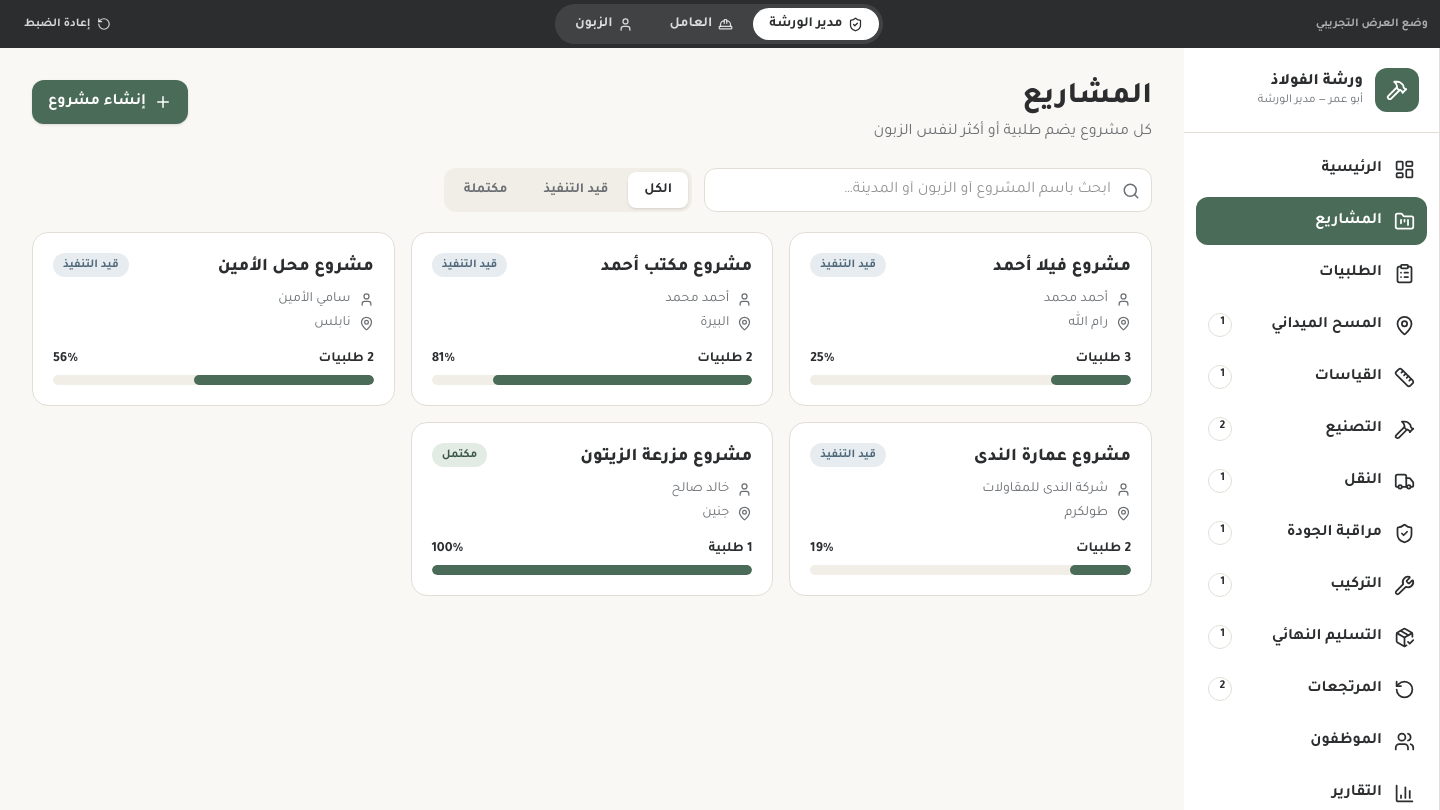
Test: flows › admin create project + order
Click the button "إنشاء مشروع": {"x": 110, "y": 102} [32,80,188,124]
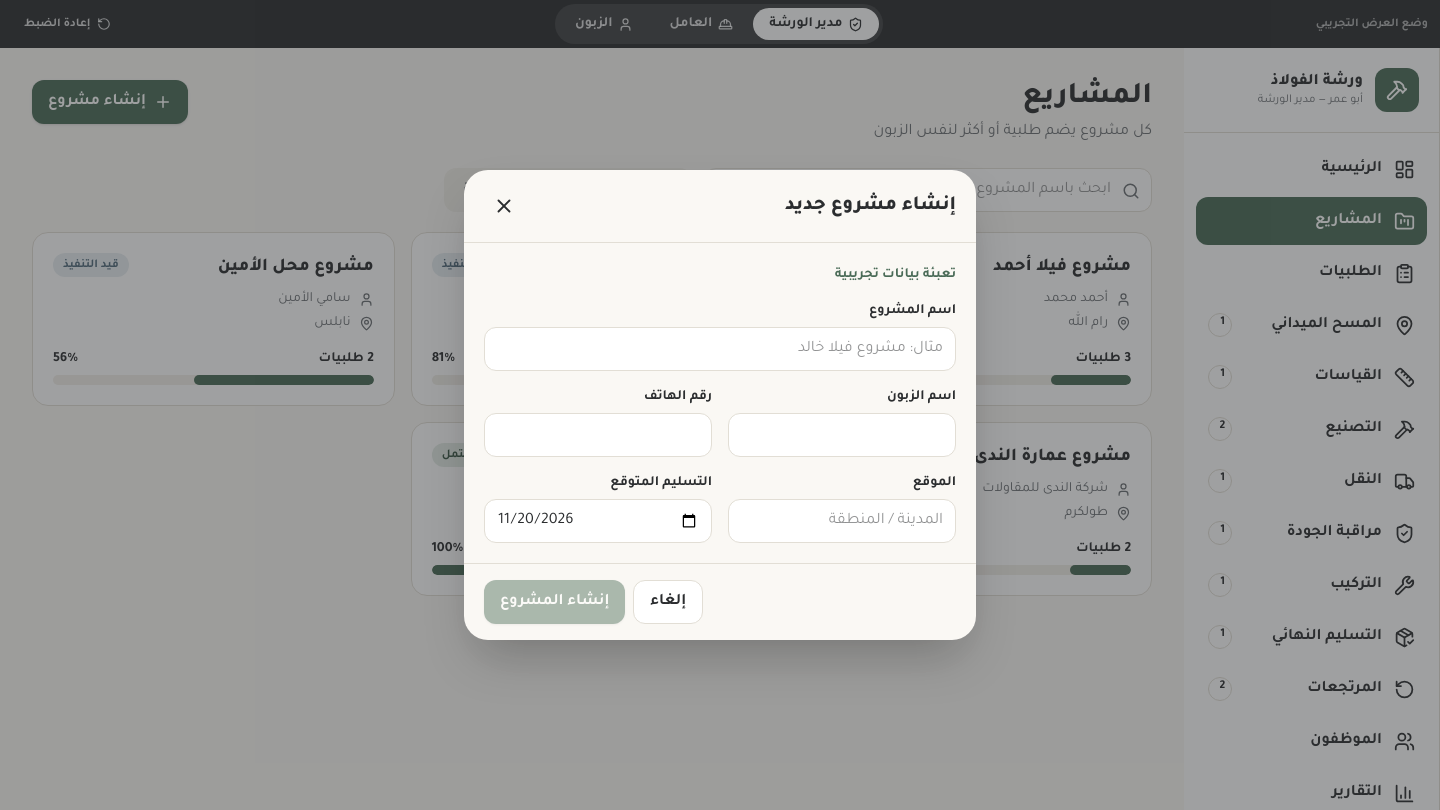
Click the button "تعبئة بيانات تجريبية": {"x": 895, "y": 275} [835,265,956,285]
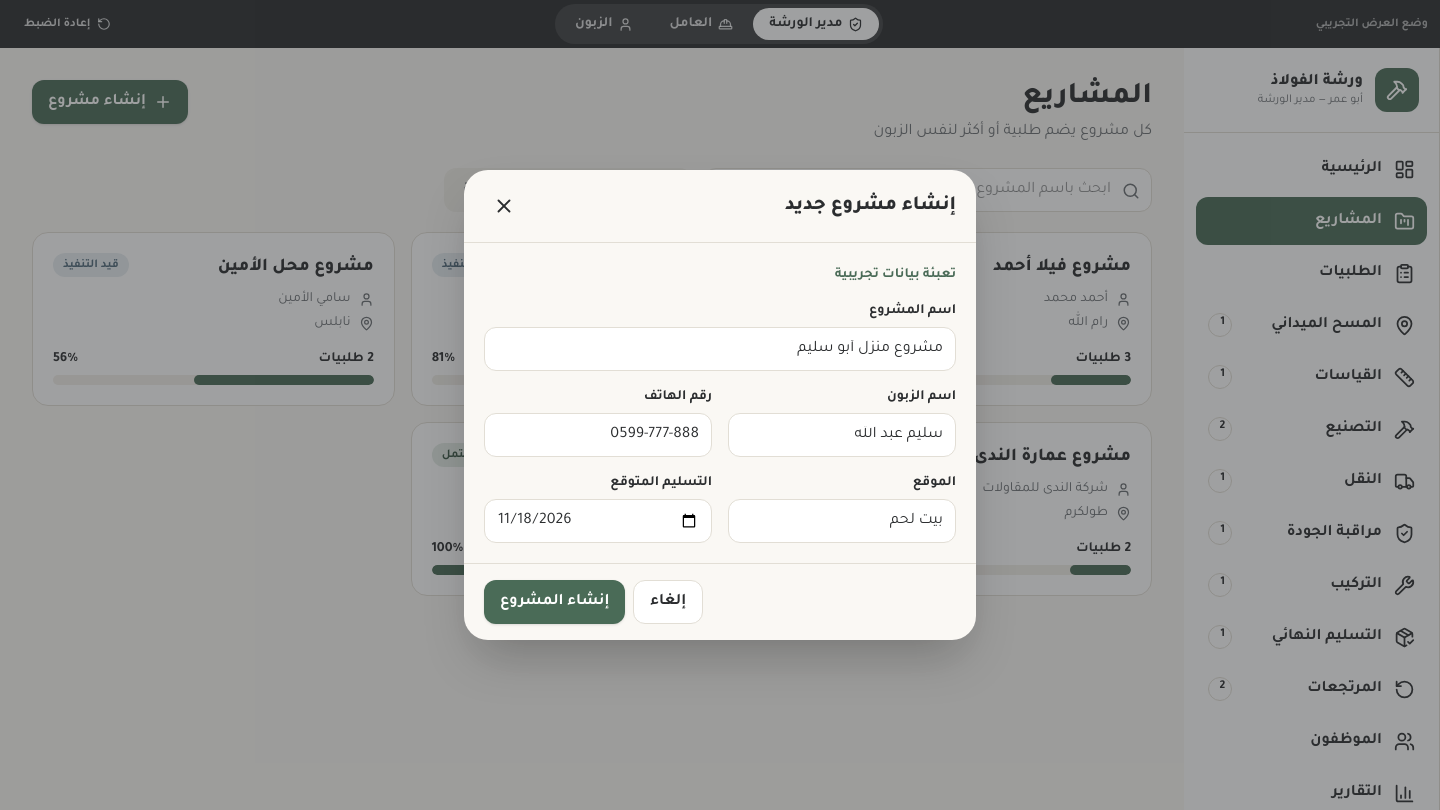
Click the button "إنشاء المشروع": {"x": 555, "y": 602} [484,580,625,624]
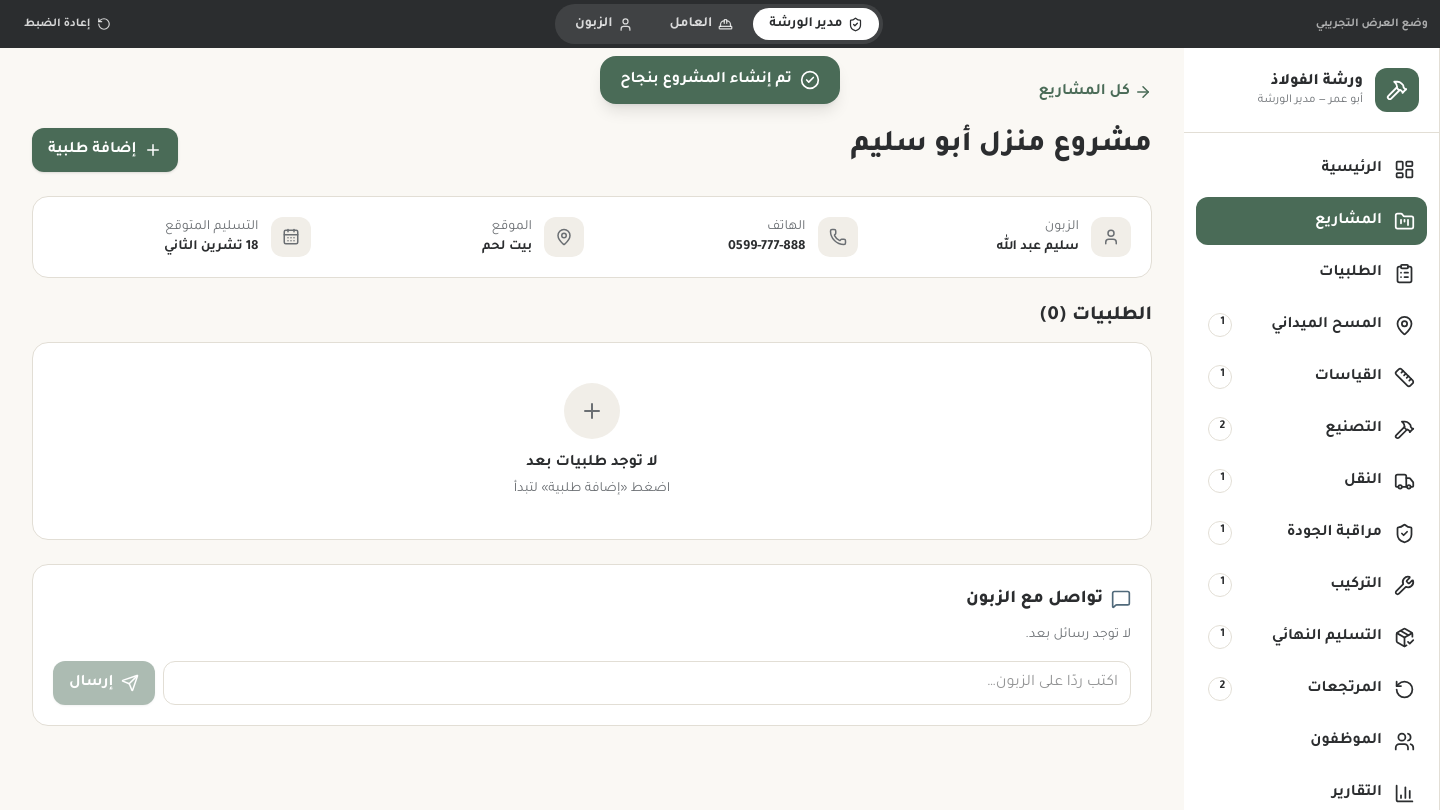
Check: the heading "مشروع منزل أبو سليم" is shown, box [851,128,1152,164]
Click the button "إضافة طلبية": {"x": 105, "y": 150} [32,128,178,172]
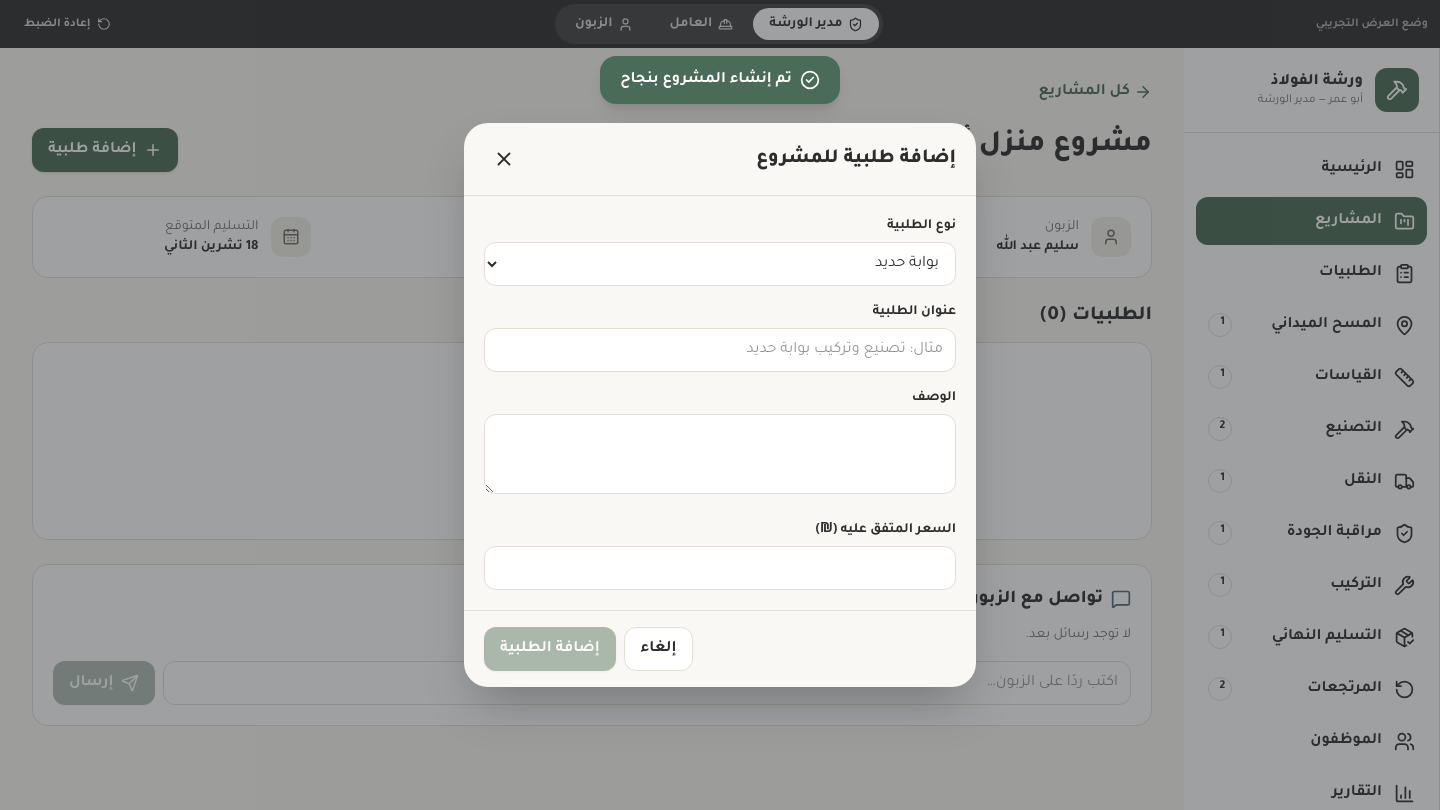
In the field with placeholder "مثال: تصنيع وتركيب بوابة حديد": {"x": 720, "y": 350} [484,328,956,372], type "بوابة تجريبية"
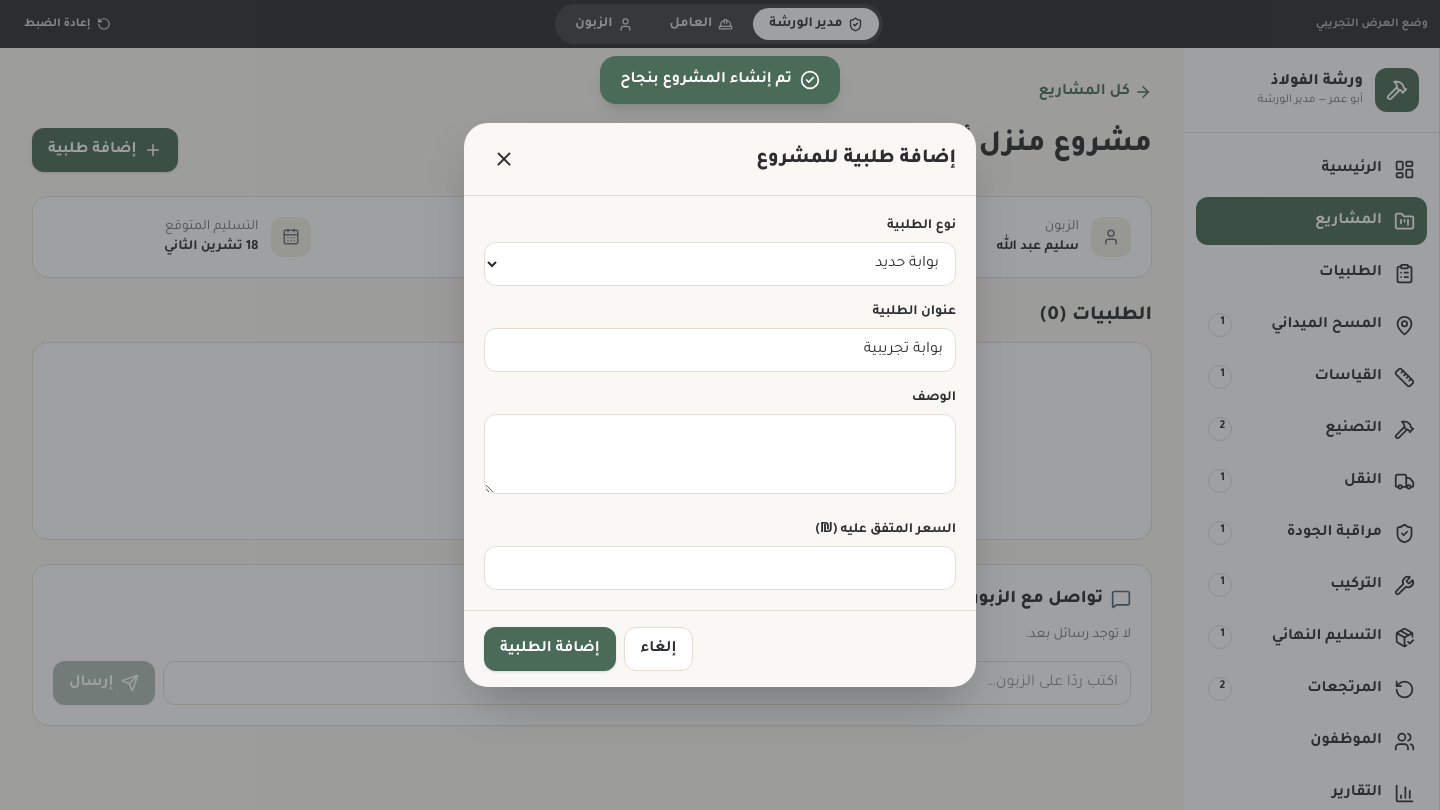
Click the button "إضافة الطلبية": {"x": 550, "y": 649} [484,627,616,671]
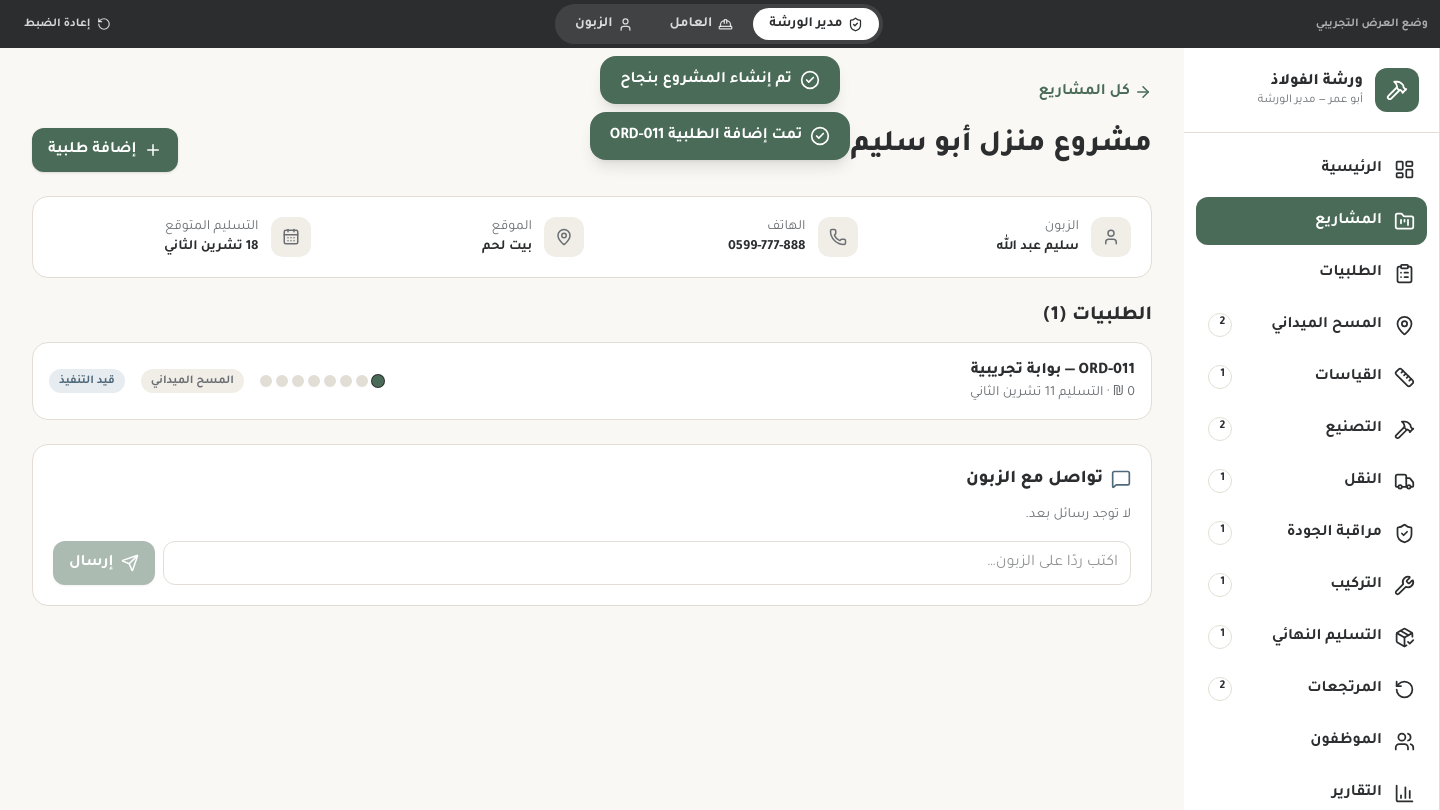
Check: the text "ORD-011 — بوابة تجريبية" is shown, box [971,363,1135,379]
